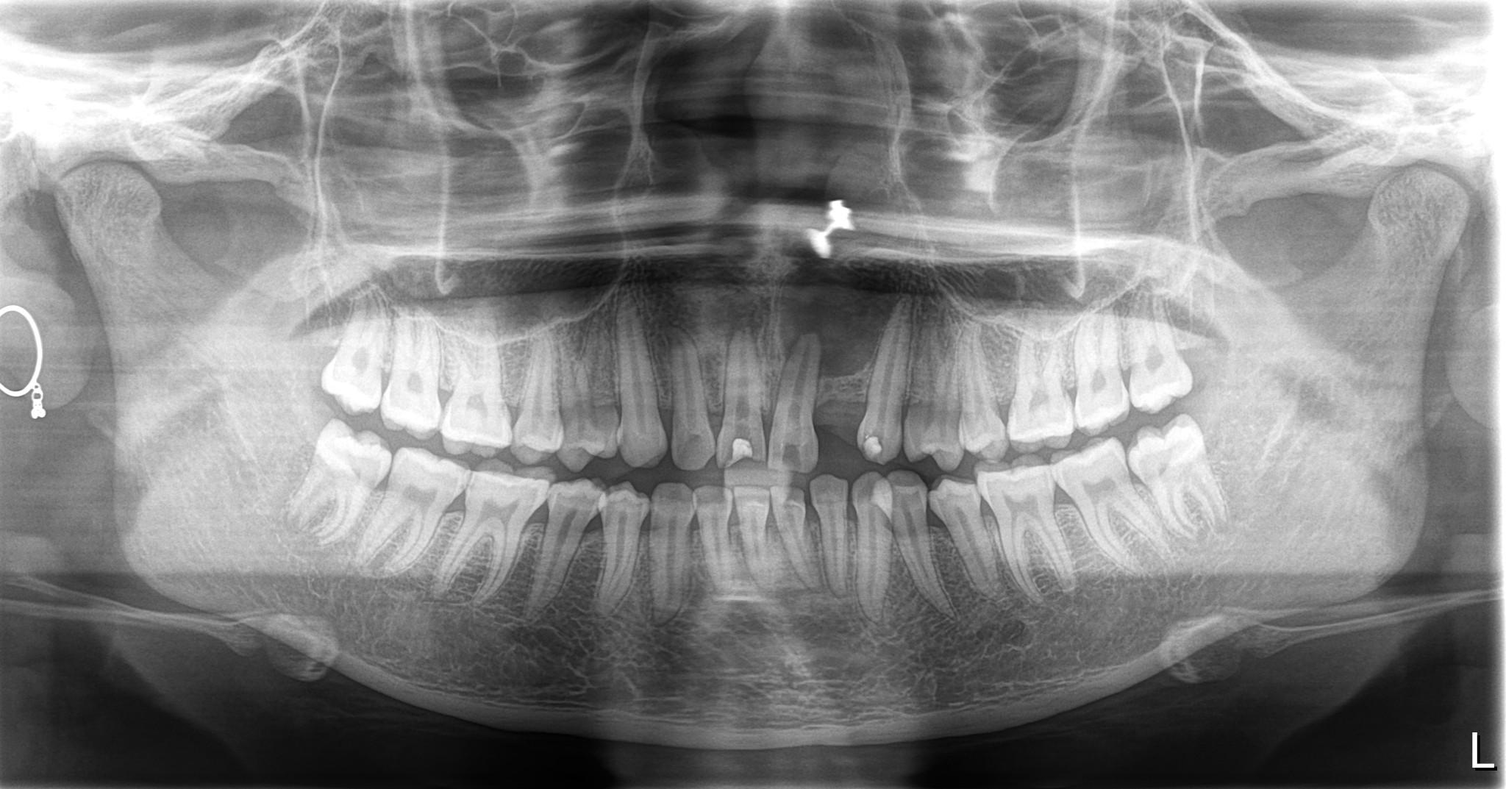Cyst: (753, 250, 952, 406)
Impacted Third Molar: (1130, 428, 1230, 549), (310, 427, 389, 537)
Missing Tooth: (803, 374, 869, 461)
